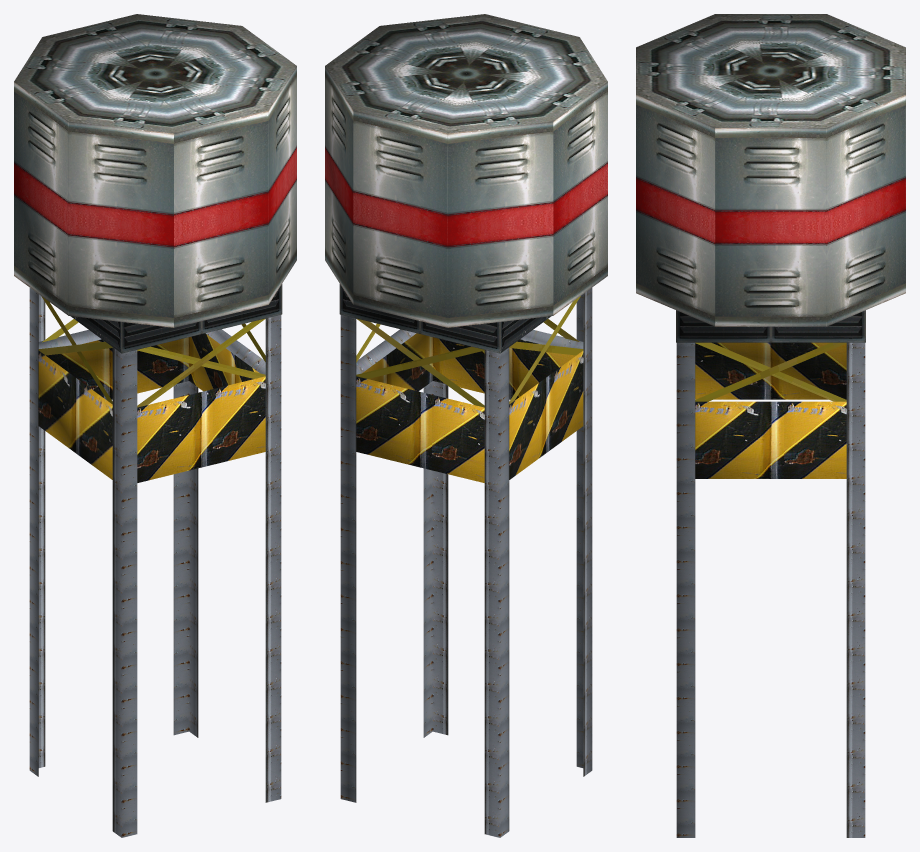
The model's file is Tank.obj.
The picture shows the model from 3 angles, left to right: view 1: azimuth 30°, elevation 25°; view 2: azimuth 150°, elevation 25°; view 3: azimuth 270°, elevation 25°; orthographic projection. The views are drawn at different scales.
Bounding box in the file's own units: 72.2 × 215 × 72.2.
Materials: 6 (6 with a texture image).
